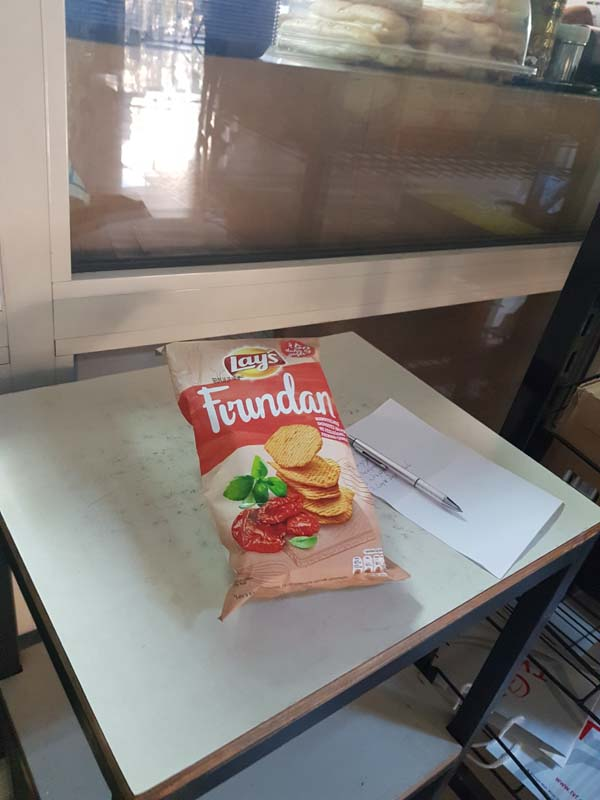laysfirindan: (155, 334, 418, 613)
